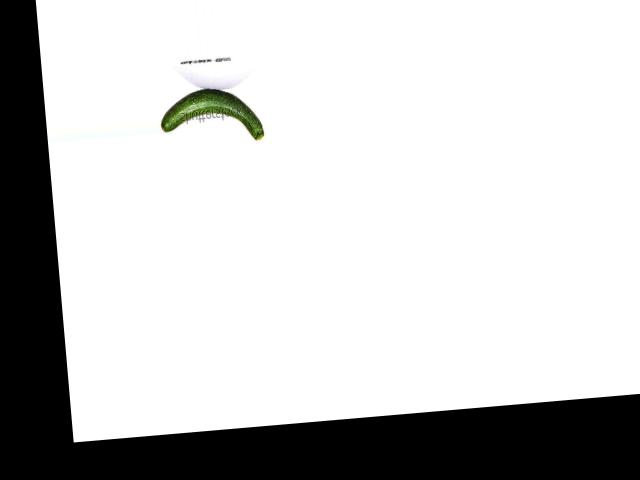cucumber: (158, 84, 264, 148)
